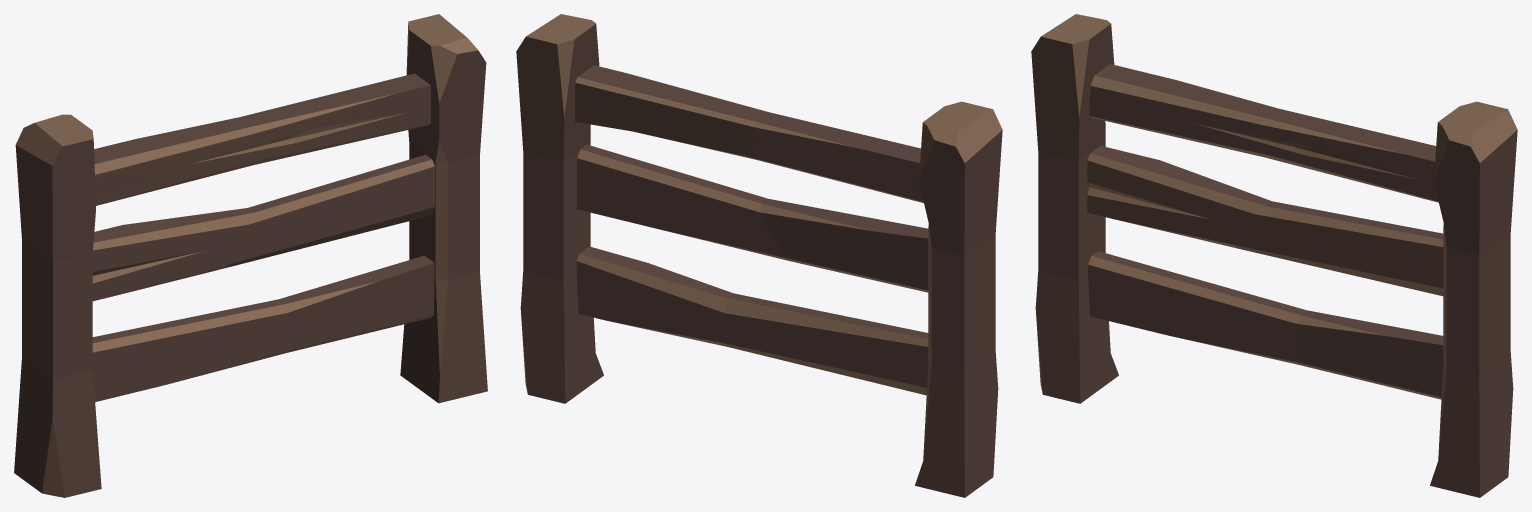
File: Fence_5.fbx
3 views of the same model, side by side, from view 1: azimuth 30°, elevation 25°; view 2: azimuth 150°, elevation 25°; view 3: azimuth 330°, elevation 25° (orthographic).
Visible parts, largest first — view 1: Fence_5; view 2: Fence_5; view 3: Fence_5.
Part boxes in pixels (x1=…): Fence_5: x1=14, y1=14, x2=487, y2=497; Fence_5: x1=516, y1=14, x2=1002, y2=497; Fence_5: x1=1031, y1=14, x2=1517, y2=497.
Bounding box in the file's own units: 53.21 × 40.75 × 8.75.
